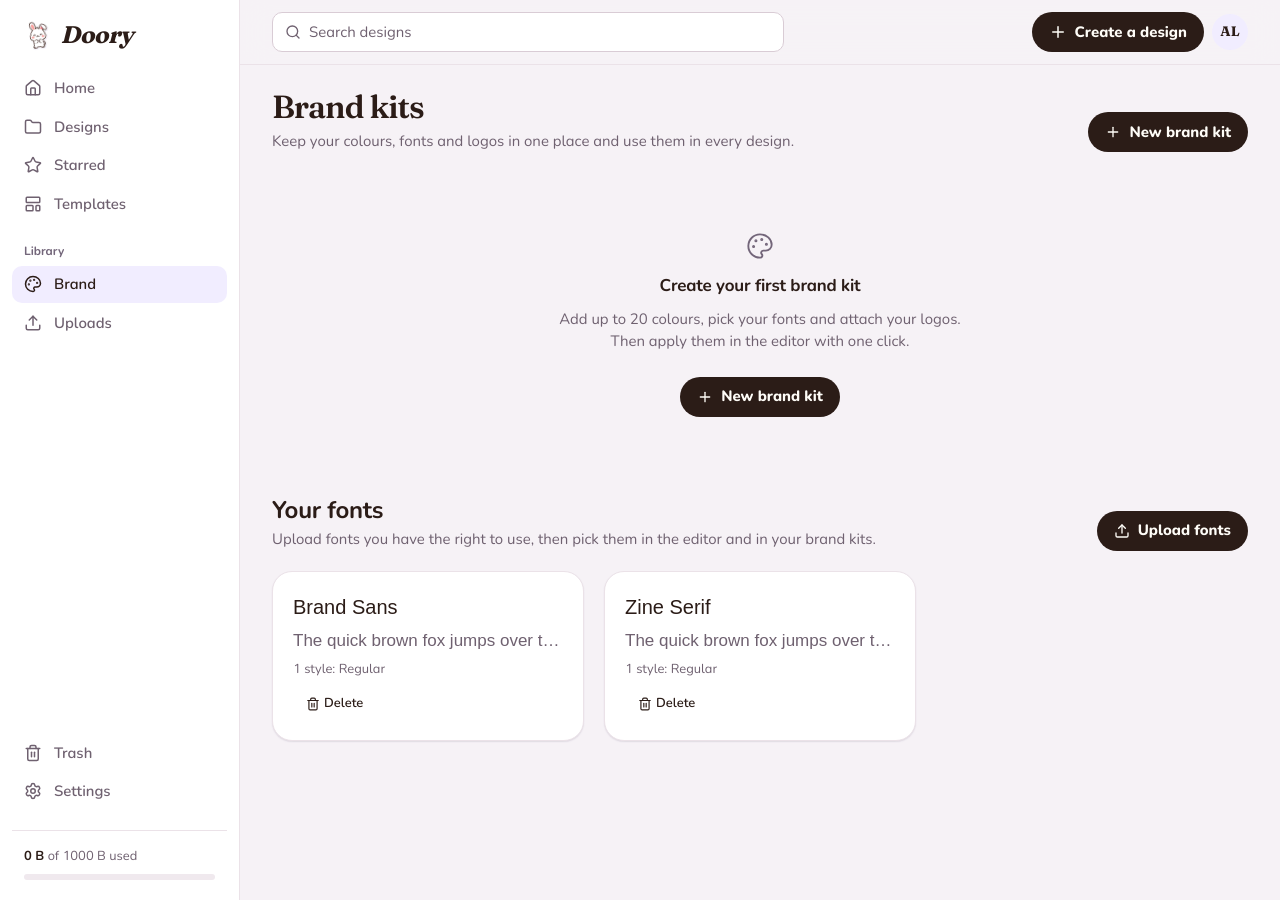
Test: brand page: your fonts › asks before deleting and removes the family
This screenshot has width=1280, height=900.
Click the button with aria-label "Delete Brand Sans".
click(335, 704)  # box 293,688 -> 376,720
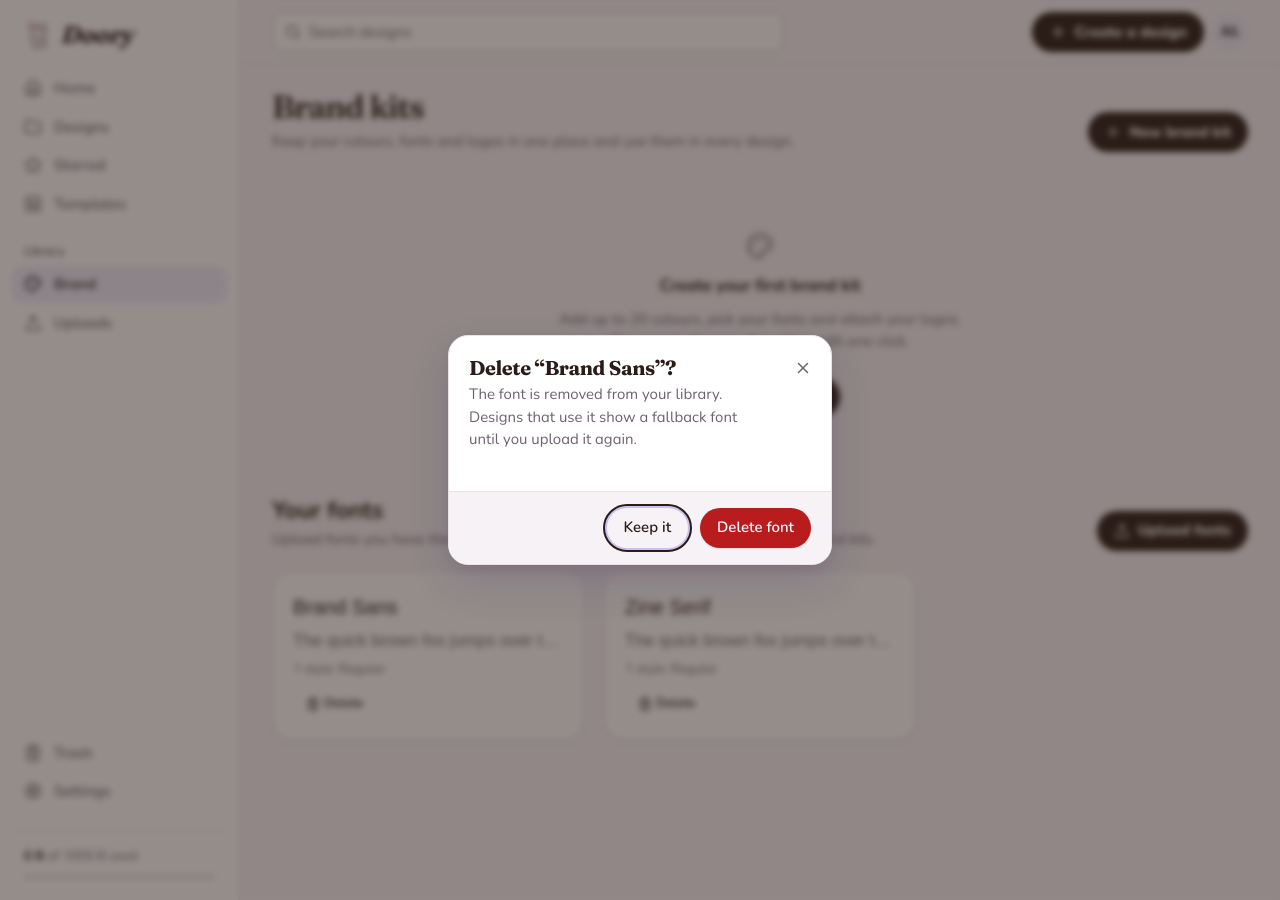
Result: the dialog "Delete “Brand Sans”?" shows "fallback font" at 469,384 -> 737,449
Click the button "Delete font".
click(756, 528)  # box 700,508 -> 811,548
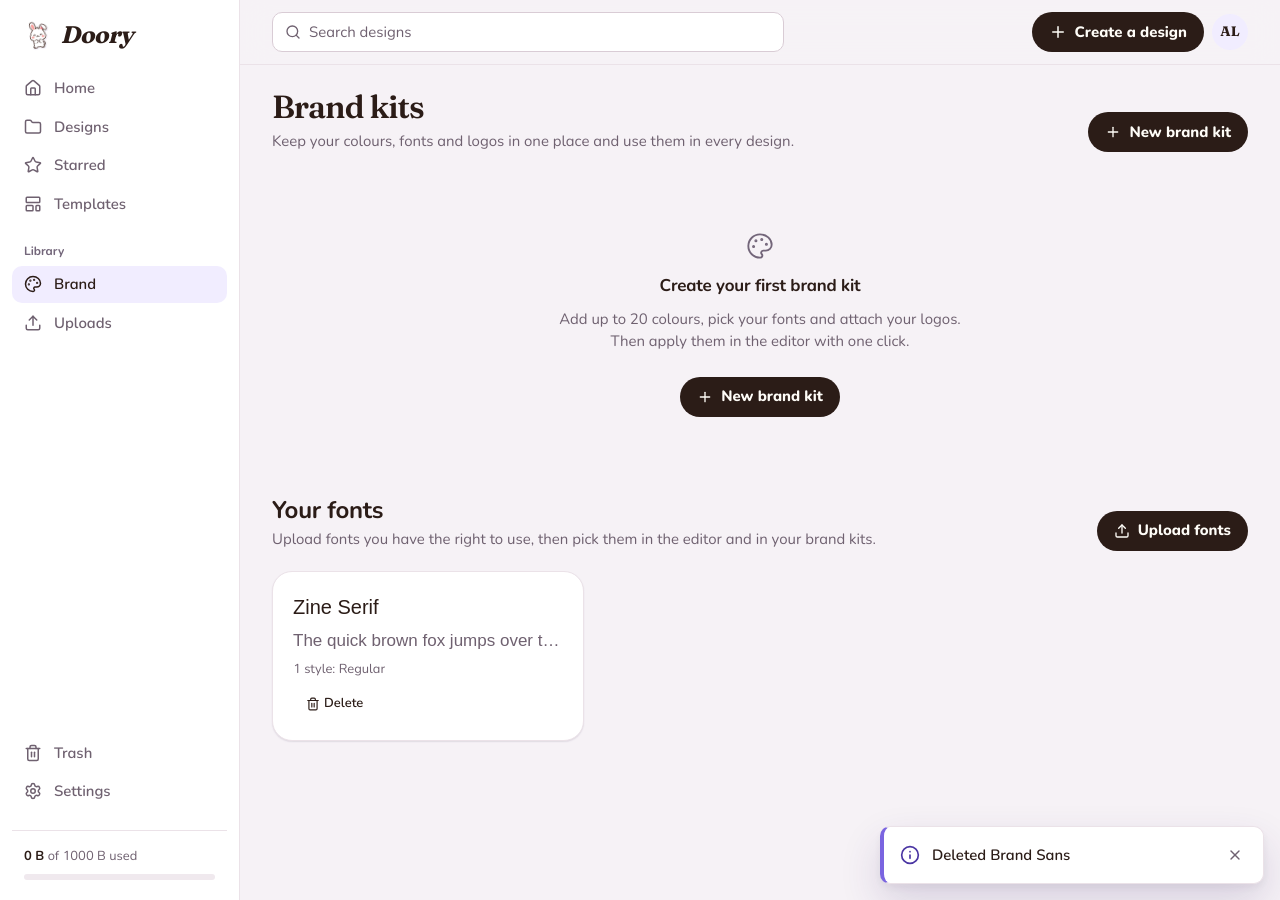
Result: the text "Deleted Brand Sans" is shown at 932,845 -> 1070,865
